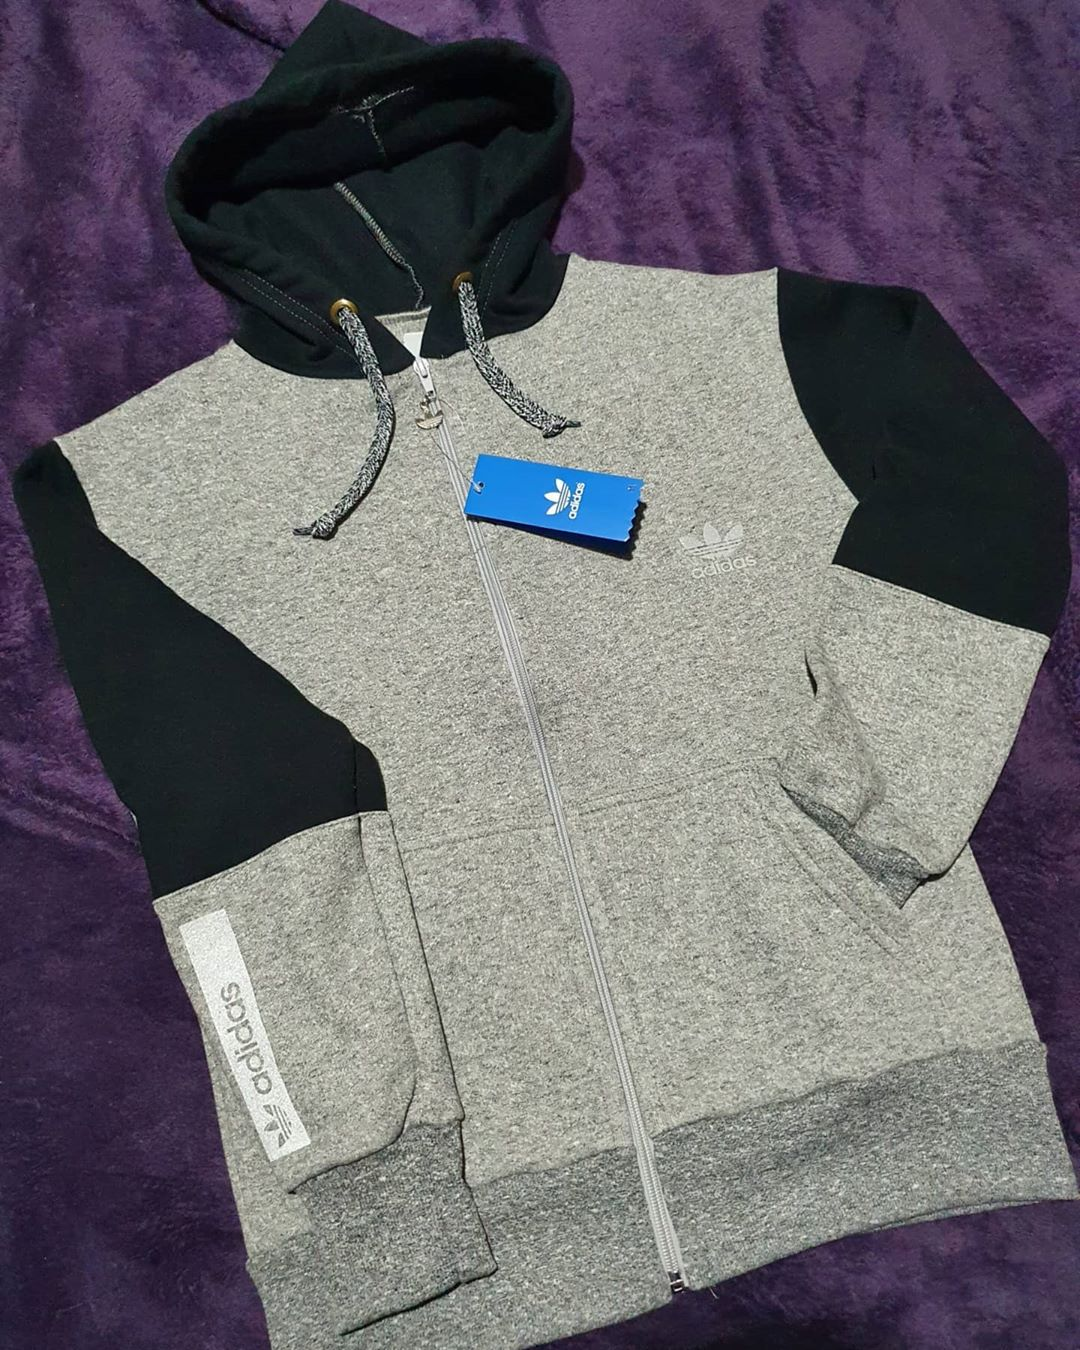adidas_2: (668, 509, 778, 597)
adidas_text: (199, 978, 298, 1097)
